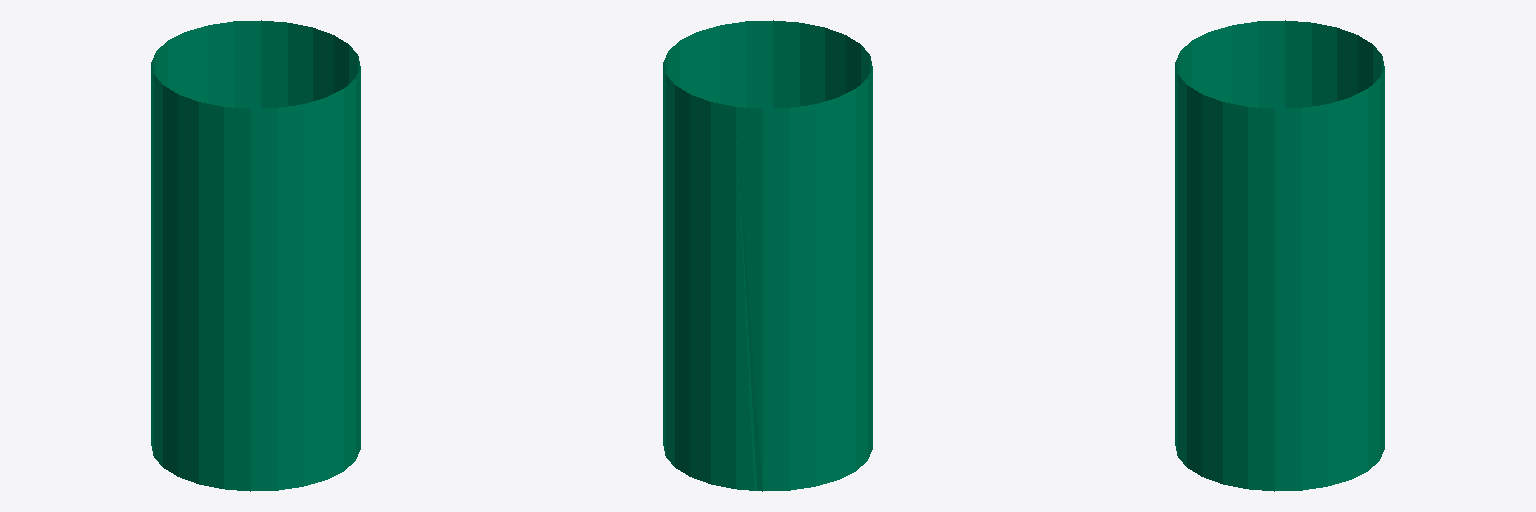
robot.urdf — partnet_76221d93ba6f391876c18e71fd49c4dc:
<?xml version="1.0" ?>
<robot name="partnet_76221d93ba6f391876c18e71fd49c4dc">
	<link name="base"/>
	<link name="link_0">
		<visual name="base_body-4">
			<origin xyz="0 0 0"/>
			<geometry>
				<mesh filename="textured_objs/original-1.obj"/>
			</geometry>
		</visual>
		<collision>
			<origin xyz="0 0 0"/>
			<geometry>
				<mesh filename="textured_objs/original-1.obj"/>
			</geometry>
		</collision>
	</link>
	<joint name="joint_0" type="fixed">
		<origin rpy="1.570796326794897 0 -1.570796326794897" xyz="0 0 0"/>
		<child link="link_0"/>
		<parent link="base"/>
	</joint>
	<link name="link_1">
		<visual name="pressing_lid-2">
			<origin xyz="-0.0003029999999999977 0 0.014980500000000008"/>
			<geometry>
				<mesh filename="textured_objs/original-3.obj"/>
			</geometry>
		</visual>
		<visual name="outlier-3">
			<origin xyz="-0.0003029999999999977 0 0.014980500000000008"/>
			<geometry>
				<mesh filename="textured_objs/original-4.obj"/>
			</geometry>
		</visual>
		<collision>
			<origin xyz="-0.0003029999999999977 0 0.014980500000000008"/>
			<geometry>
				<mesh filename="textured_objs/original-3.obj"/>
			</geometry>
		</collision>
		<collision>
			<origin xyz="-0.0003029999999999977 0 0.014980500000000008"/>
			<geometry>
				<mesh filename="textured_objs/original-4.obj"/>
			</geometry>
		</collision>
	</link>
	<joint name="joint_1" type="revolute">
		<origin xyz="0.0 0 0.0"/>
		<axis xyz="0 1 0"/>
		<child link="link_1"/>
		<parent link="link_1_helper"/>
	</joint>
	<link name="link_1_helper"/>
	<joint name="joint_2" type="prismatic">
		<origin xyz="0.0003029999999999977 0 -0.014980500000000008"/>
		<axis xyz="0 -1 0"/>
		<child link="link_1_helper"/>
		<parent link="link_0"/>
		<limit lower="0" upper="0.04800000000000004"/>
	</joint>
</robot>

--- Render facts (derived) ---
Views: 3 orthographic renders of the robot side by side, from view 1: azimuth 30°, elevation 25°; view 2: azimuth 150°, elevation 25°; view 3: azimuth 270°, elevation 25°.
Model partnet_76221d93ba6f391876c18e71fd49c4dc with 4 links and 3 joints (1 revolute, 1 prismatic, 1 fixed), rooted at base, posed all joints at 0.
Visible links, largest first — view 1: link_1; view 2: link_1; view 3: link_1.
Link boxes in pixels (x1,y1,x2,y2): link_1: (151,20,360,491); link_1: (663,20,872,491); link_1: (1175,20,1384,491).
Bounding box of the posed robot: 0.083 × 0.083 × 0.1675 m (x, y, z).
2 mesh visuals loaded from 3 distinct referenced files (2 OBJ); not drawn: 1 (reference not matched to a file when rendering).